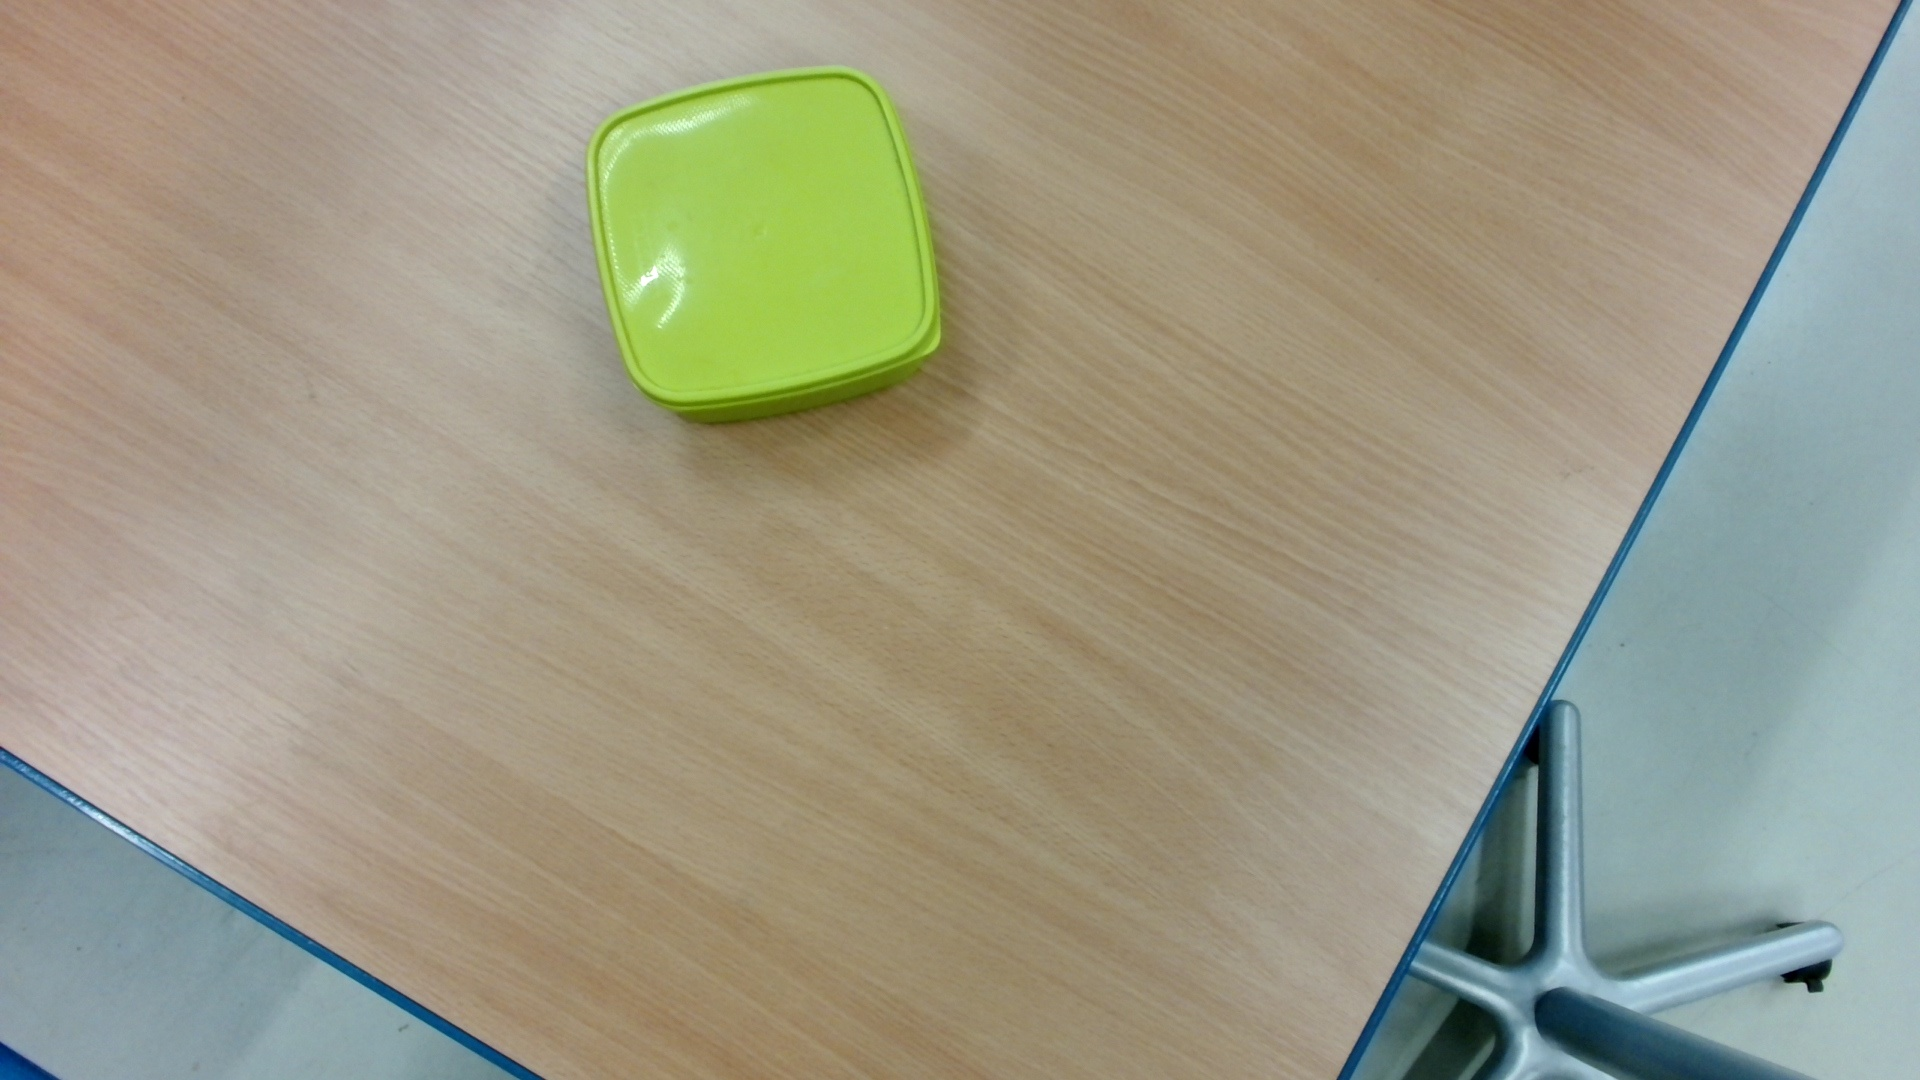Box: (578, 58, 951, 434)
